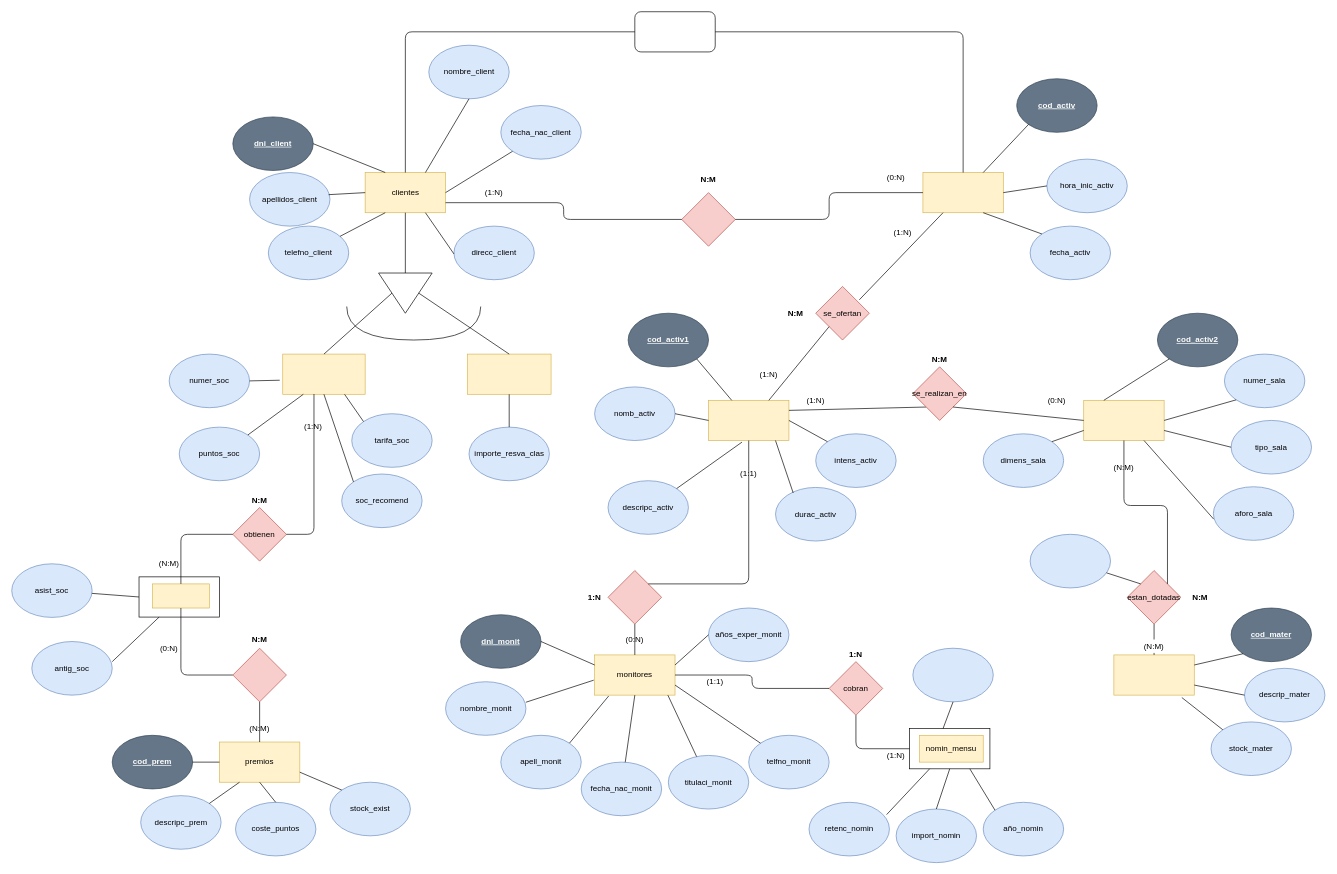
The diagram is 1337 pixels wide and 874 high, and some of its shapes have lost their labels. Here are the shapes that lost their labels. From the top down, the centre of each, then its label:
At (674,31): "PONTE EN FORMA".
At (962,192): "clases".
At (708,219): "pueden_resev".
At (323,373): "socios".
At (509,373): "no_socios".
At (748,420): "actividades".
At (1123,420): "salas_gym".
At (1070,561): "unides_matriales".
At (180,595): "puntos_fidel".
At (634,597): "sera_impartida".
At (259,675): "pued_canjearse".
At (952,675): "datos_mes".
At (1153,674): "materiales".
